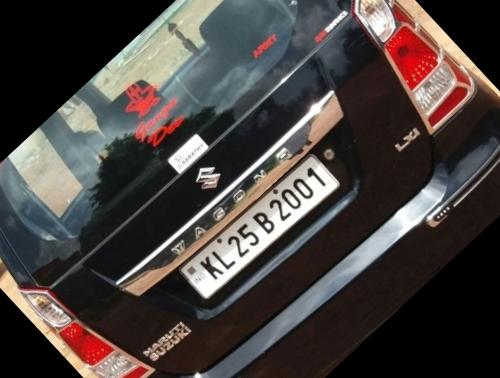plate: (180, 146, 346, 305)
